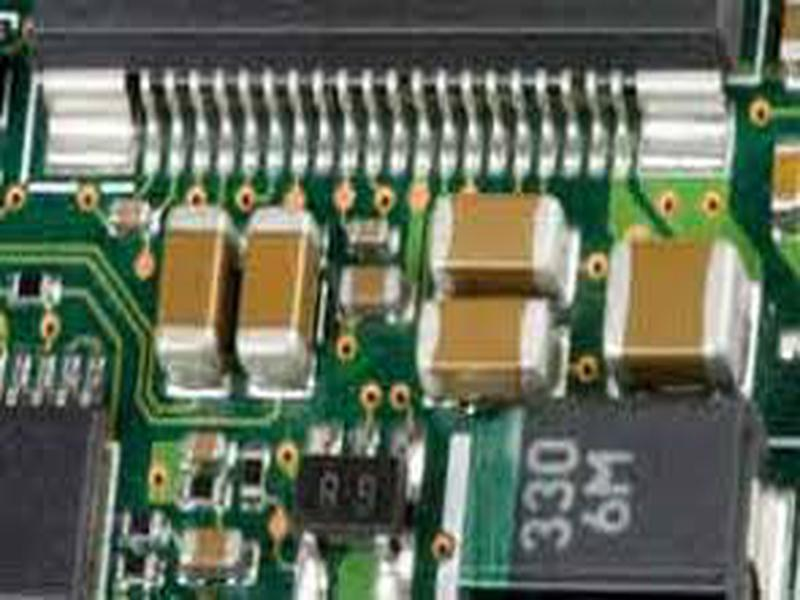SMD capacitor: (600, 237, 754, 391), (433, 192, 570, 300), (155, 205, 237, 374), (244, 208, 319, 384), (422, 300, 552, 395), (338, 264, 408, 316)
